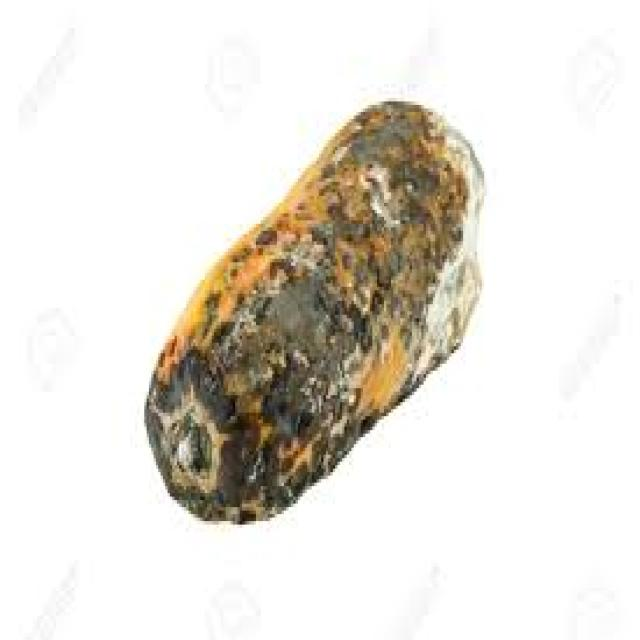Papaya: (149, 96, 489, 531)
